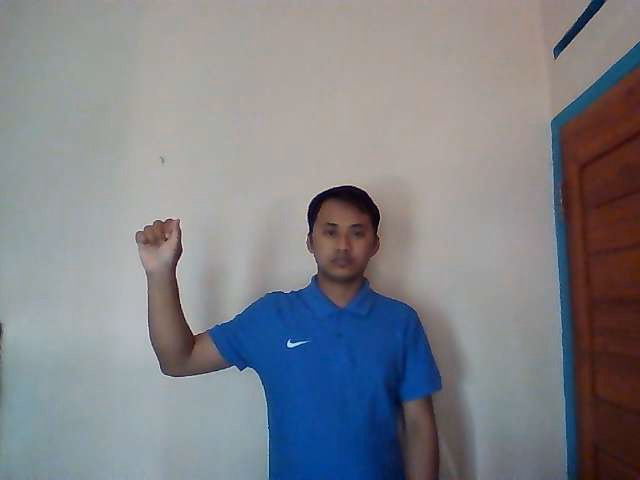A: (134, 218, 184, 270)
